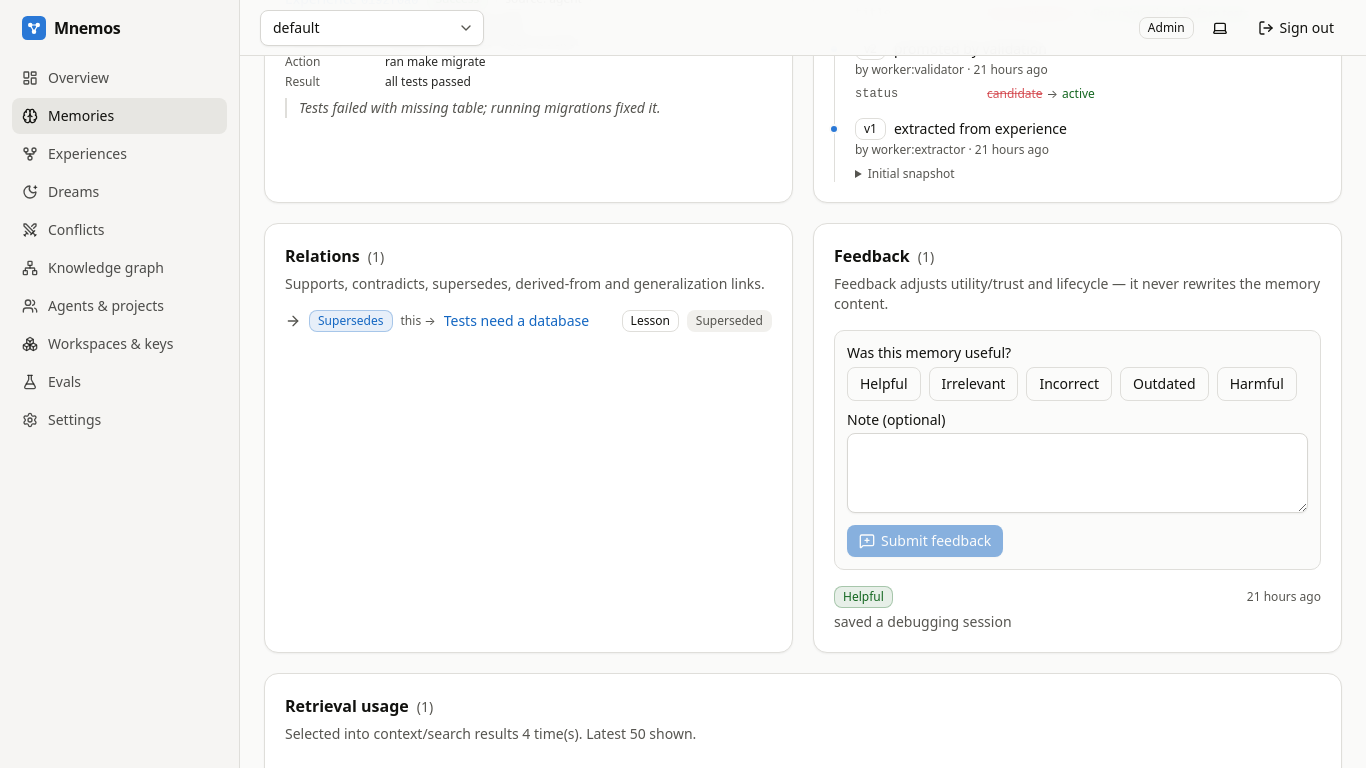
it: Memory detail › submits feedback and refreshes the memory
(page scrolled)
Expected: the button with test id "feedback-submit" is disabled, [847,525,1003,557]
Click the radio button with test id "feedback-value-outdated" at x=1164, y=384, box [1120,367,1209,401]
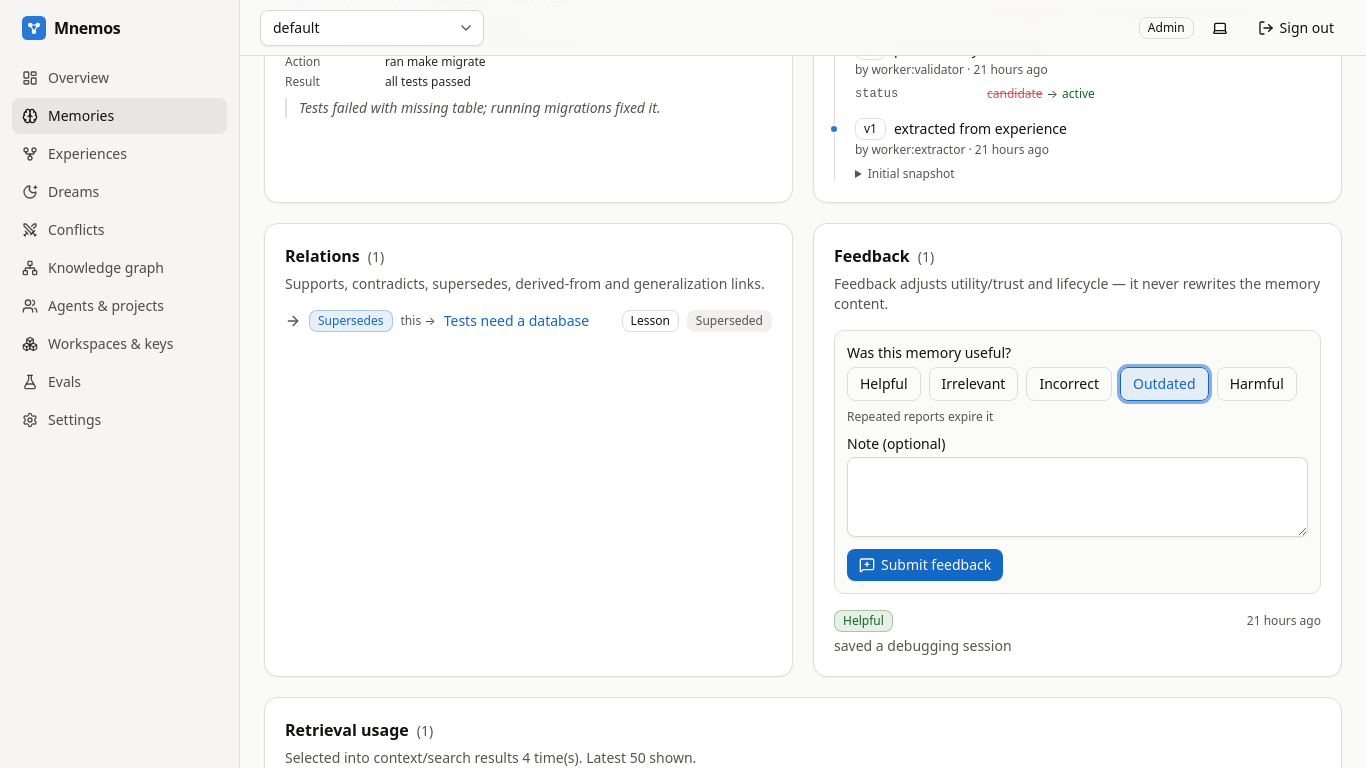
Type "API changed" into the text box with test id "feedback-note" at x=1078, y=497, box [847,457,1308,537]
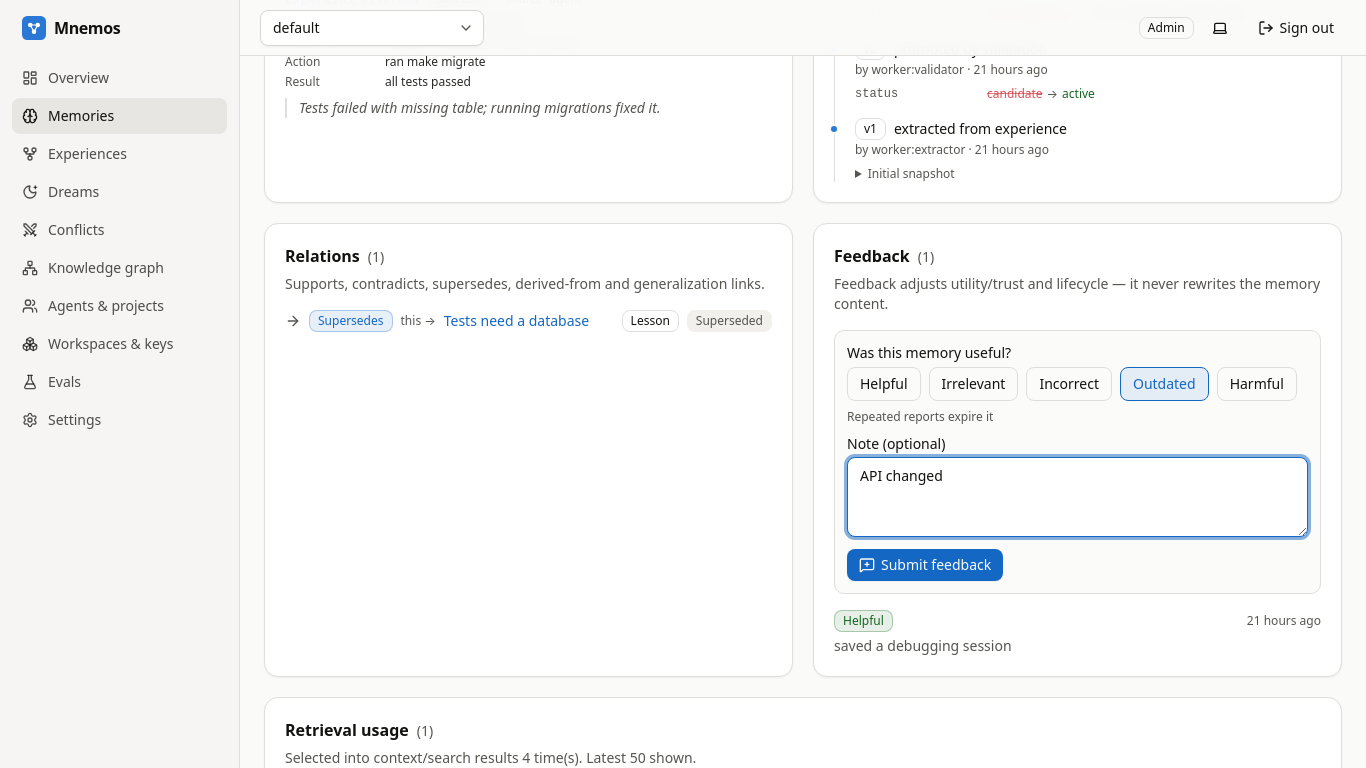
Click the button with test id "feedback-submit" at x=925, y=565, box [847,549,1003,581]
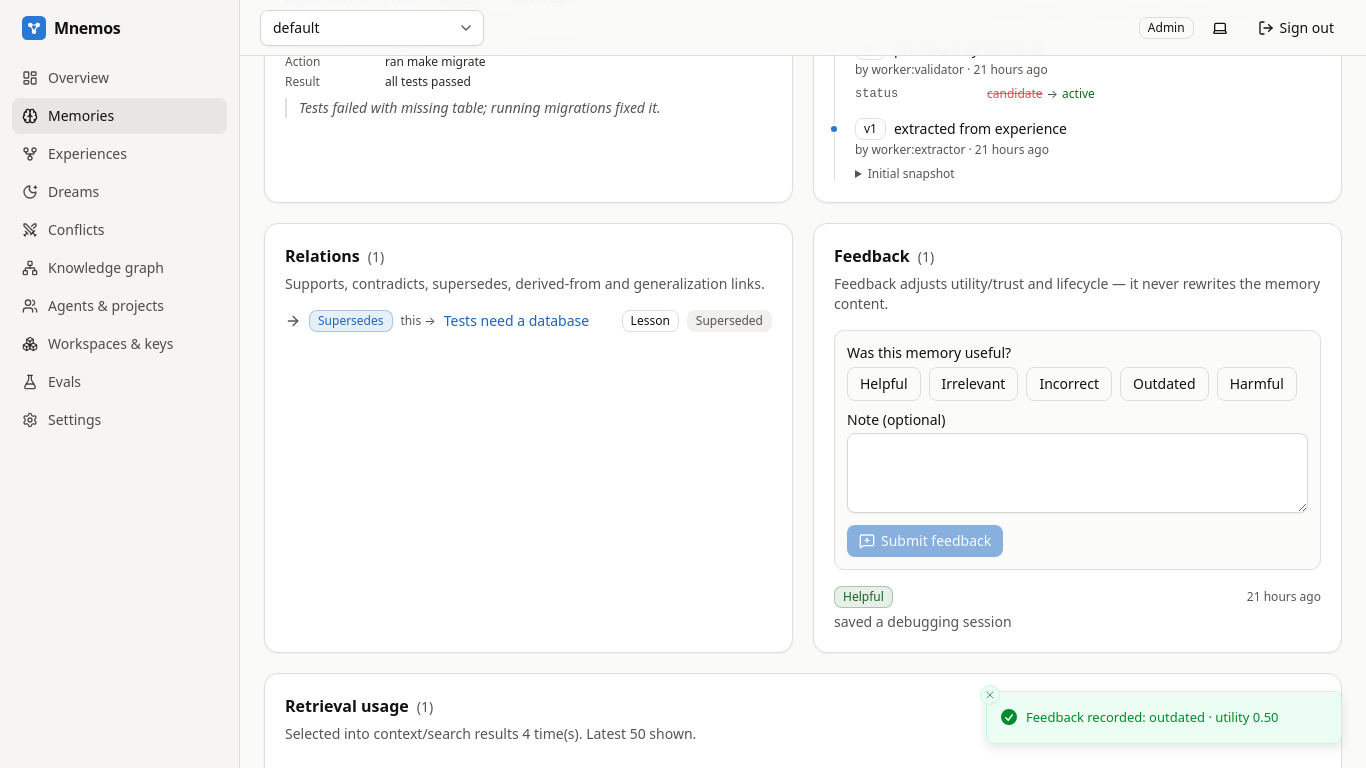
Result: the text "Feedback recorded: outdated · utility 0.50" is shown at [1026,708,1278,727]
Result: the button with test id "feedback-submit" is disabled at [847,525,1003,557]
